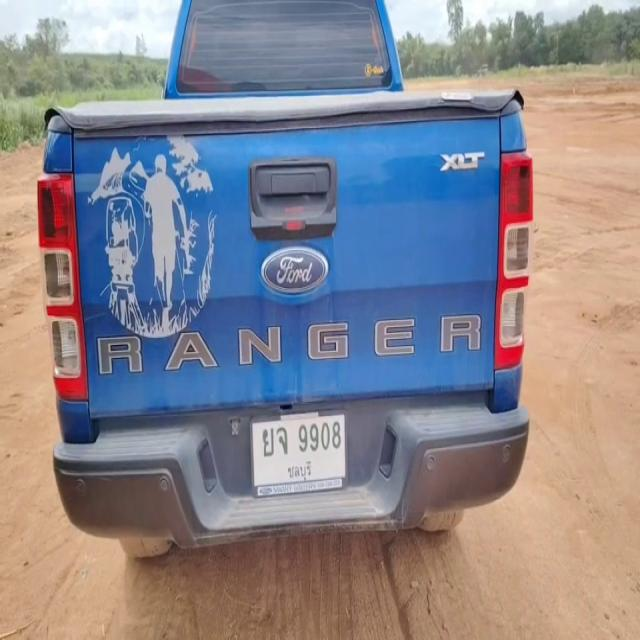Digit: (298, 419, 342, 453)
Licenseplate: (250, 414, 348, 492)
Provincename: (288, 460, 314, 482)
Thaichar: (261, 424, 289, 457)
